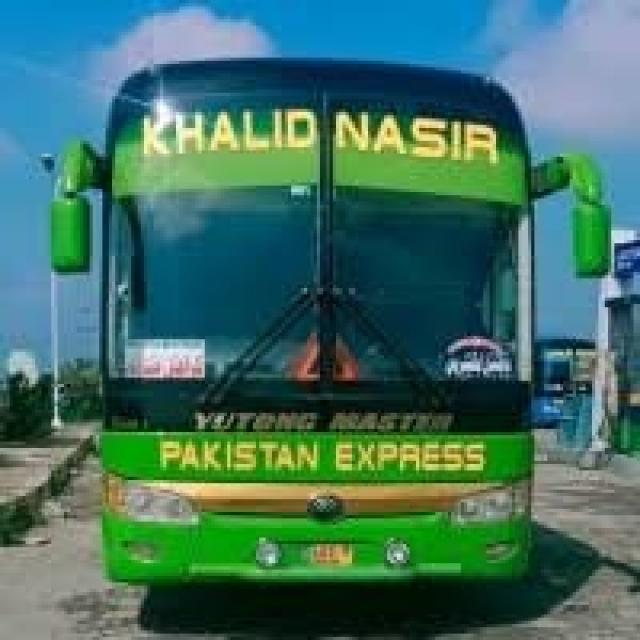bus: (19, 49, 635, 630)
